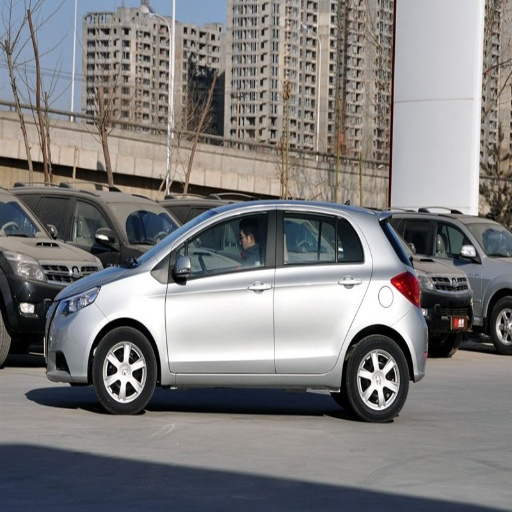back_glass: (381, 217, 450, 259)
back_left_door: (276, 208, 370, 374)
front_bumper: (53, 312, 102, 374)
front_left_door: (165, 208, 275, 372)
